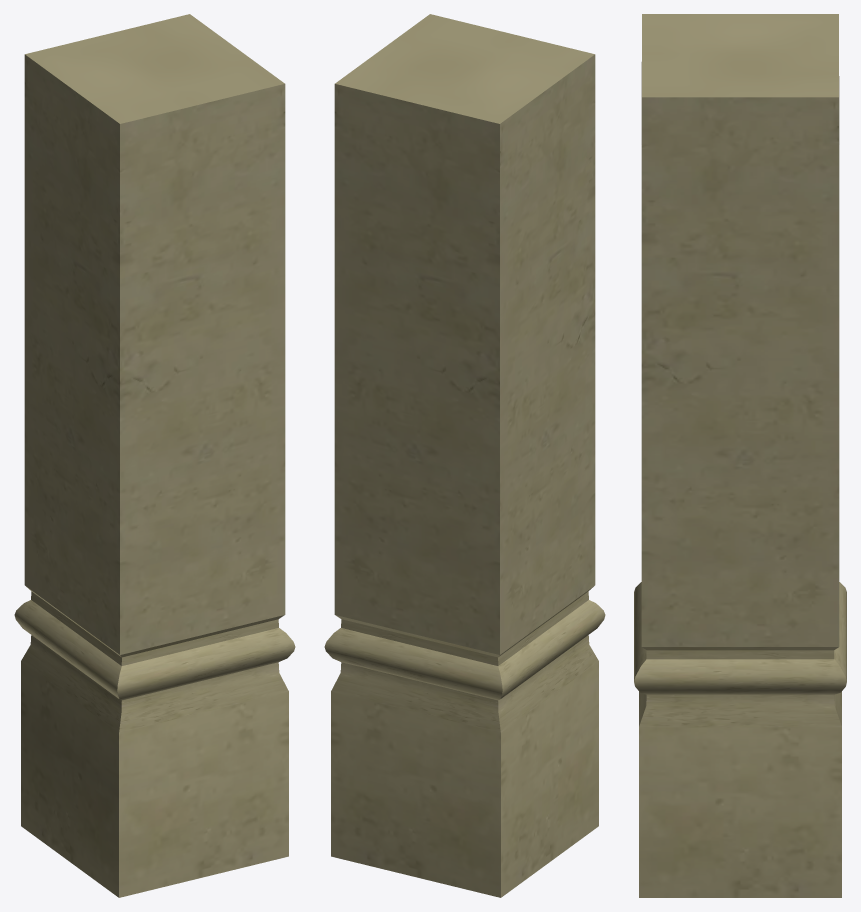
The model's file is Trim_Column_Bottom.glb.
3 views of the same model, side by side, from view 1: azimuth 30°, elevation 25°; view 2: azimuth 150°, elevation 25°; view 3: azimuth 270°, elevation 25° (orthographic). The views are drawn at different scales.
Visible parts, largest first — view 1: Trim_Column_Bottom; view 2: Trim_Column_Bottom; view 3: Trim_Column_Bottom.
Part boxes in pixels (x1,y1,x2,y2): Trim_Column_Bottom: [14, 14, 295, 897]; Trim_Column_Bottom: [324, 14, 605, 897]; Trim_Column_Bottom: [634, 14, 846, 897].
Size of the model in its own units: 0.7242 by 3 by 0.7242.
Materials: 1 (1 with a texture image).
